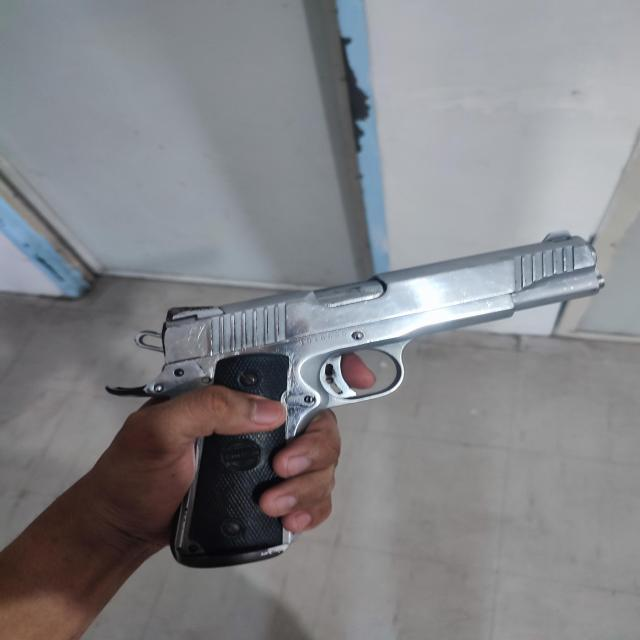pistol: (104, 229, 602, 562)
